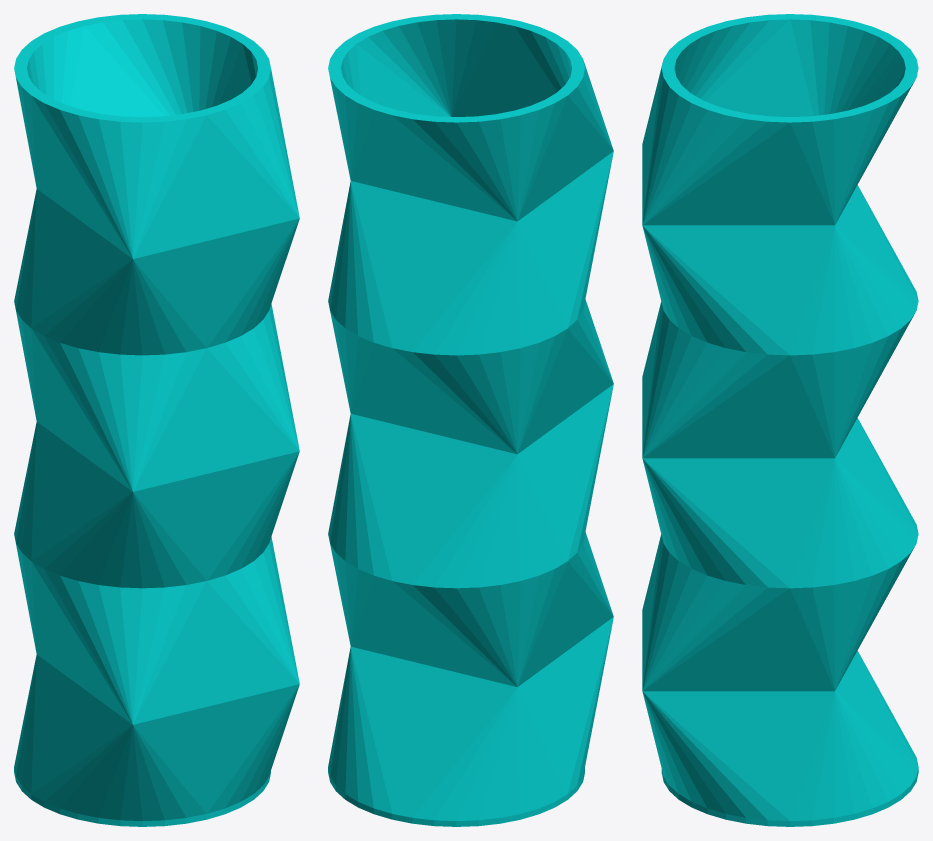
The model's file is monomorphic-loft.glb.
The picture shows the model from 3 angles, left to right: view 1: azimuth 30°, elevation 25°; view 2: azimuth 150°, elevation 25°; view 3: azimuth 270°, elevation 25°; orthographic projection.
Bounding box in the file's own units: 40 × 121 × 43.
